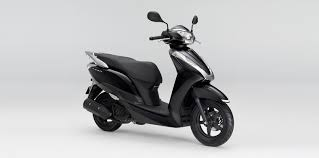motorcycle: (77, 9, 238, 149)
